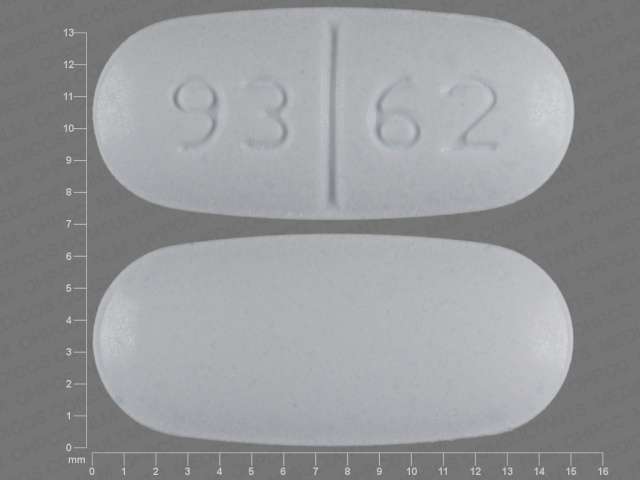2: (441, 69, 507, 160)
3: (240, 70, 292, 154)
6: (367, 70, 425, 154)
9: (172, 70, 224, 154)
|: (318, 2, 354, 224)
